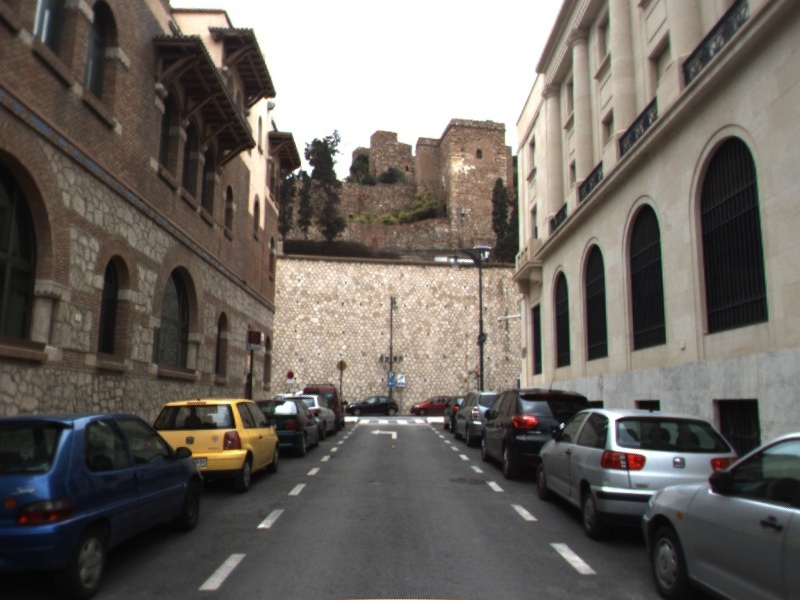LEFT: (368, 426, 399, 441)
